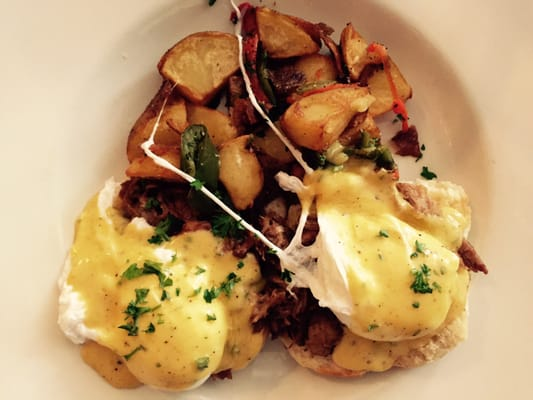sushi: (48, 1, 501, 399)
